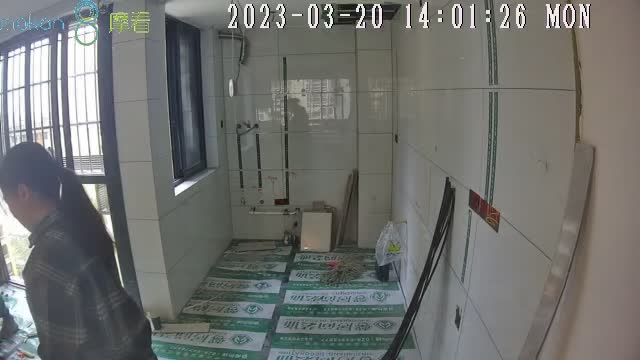people: (1, 141, 158, 360)
window: (1, 20, 115, 177)
